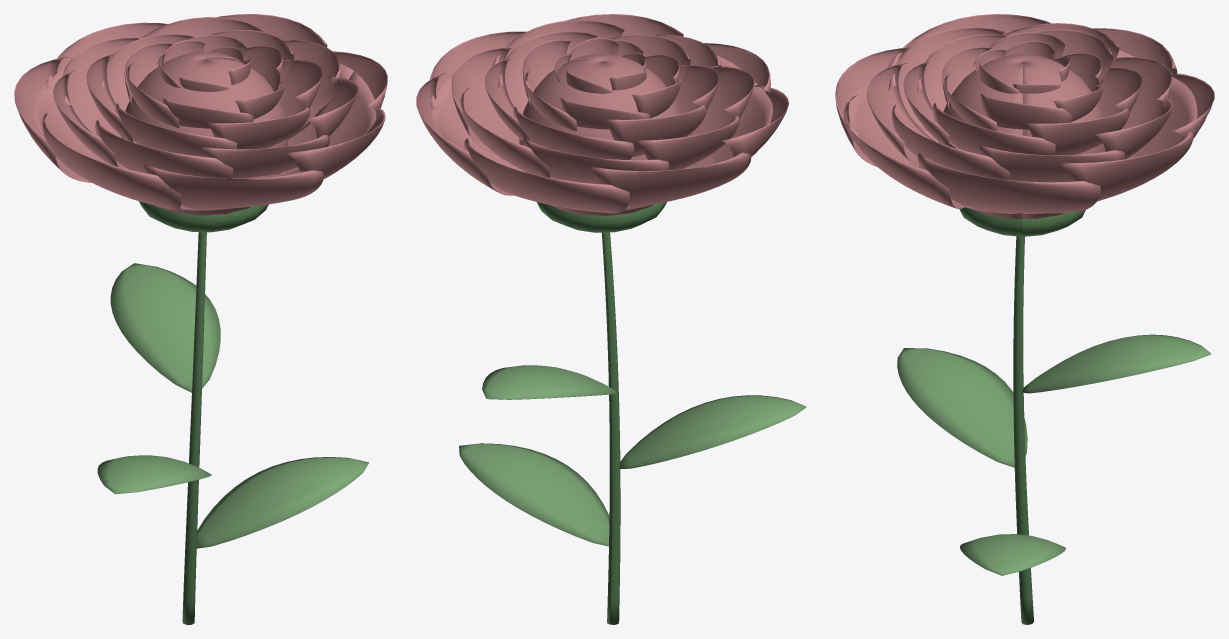
Rendered from rose-fine-v2.glb.
3 views of the same model, side by side, from view 1: azimuth 30°, elevation 25°; view 2: azimuth 150°, elevation 25°; view 3: azimuth 270°, elevation 25° (orthographic).
Visible parts, largest first — view 1: rose-fine-v2-petal, rose-fine-v2-leaf, rose-fine-v2-stem; view 2: rose-fine-v2-petal, rose-fine-v2-leaf, rose-fine-v2-stem; view 3: rose-fine-v2-petal, rose-fine-v2-leaf, rose-fine-v2-stem.
Part boxes in pixels (x1,y1,x2,y2): rose-fine-v2-petal: (14,14,387,215); rose-fine-v2-leaf: (97,263,368,548); rose-fine-v2-stem: (139,201,268,624); rose-fine-v2-petal: (416,14,788,215); rose-fine-v2-leaf: (459,365,806,546); rose-fine-v2-stem: (537,202,666,624); rose-fine-v2-petal: (835,14,1214,219); rose-fine-v2-leaf: (897,334,1210,575); rose-fine-v2-stem: (959,207,1085,624).
Size of the model in its own units: 1.01 by 1.68 by 1.01.
